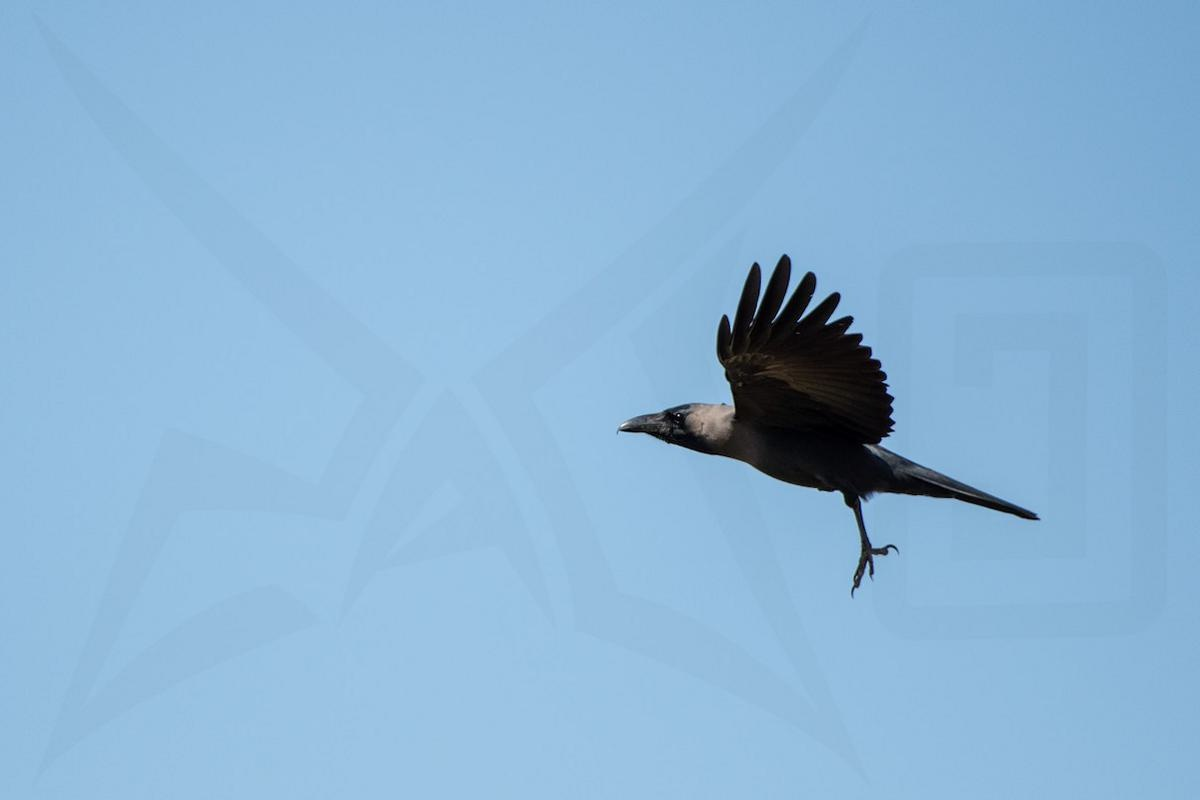crow: (611, 249, 1045, 623)
